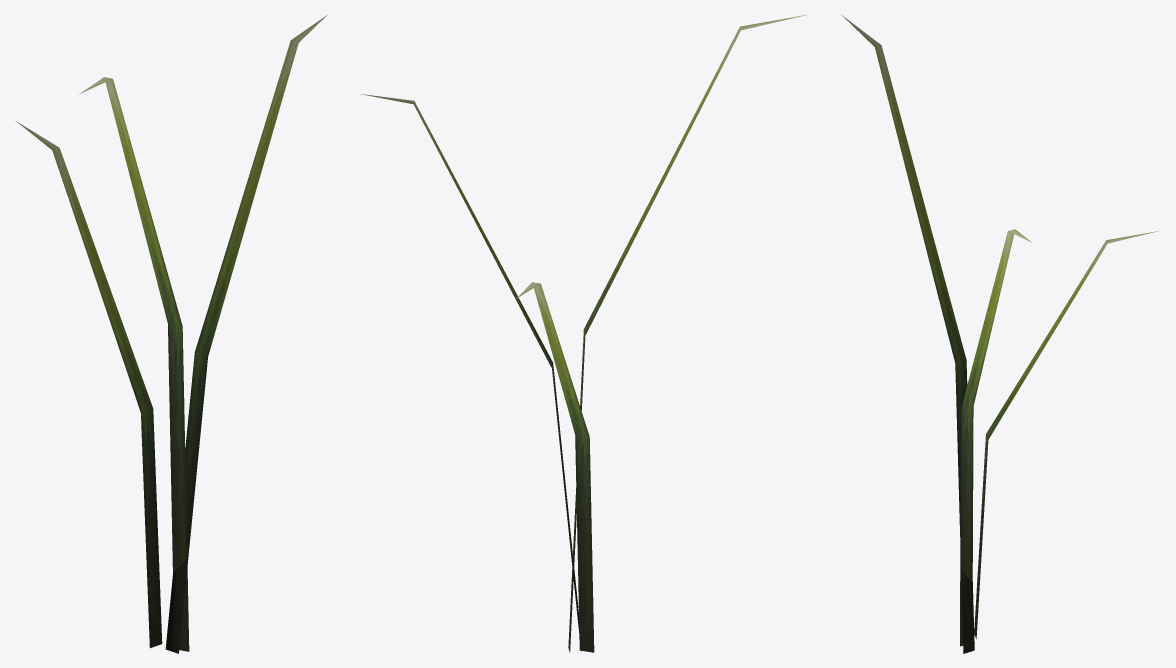
File: swmp_shor_cattail_med_l1.fbx
The picture shows the model from 3 angles, left to right: view 1: azimuth 30°, elevation 25°; view 2: azimuth 150°, elevation 25°; view 3: azimuth 270°, elevation 25°; orthographic projection. The views are drawn at different scales.
Parts seen in each view (by area): view 1: mesh_node; view 2: mesh_node; view 3: mesh_node.
Boxes of the visible parts, x1,y1,x2,y2 form: mesh_node: (15, 14, 327, 653); mesh_node: (360, 14, 807, 652); mesh_node: (842, 15, 1158, 653).
Bounding box in the file's own units: 1.44 × 2.49 × 1.28.
